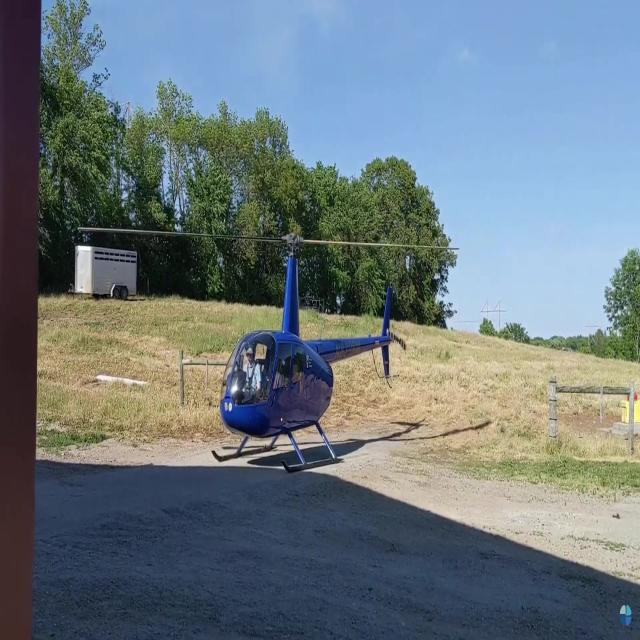CIV_HELO: (210, 230, 395, 473)
